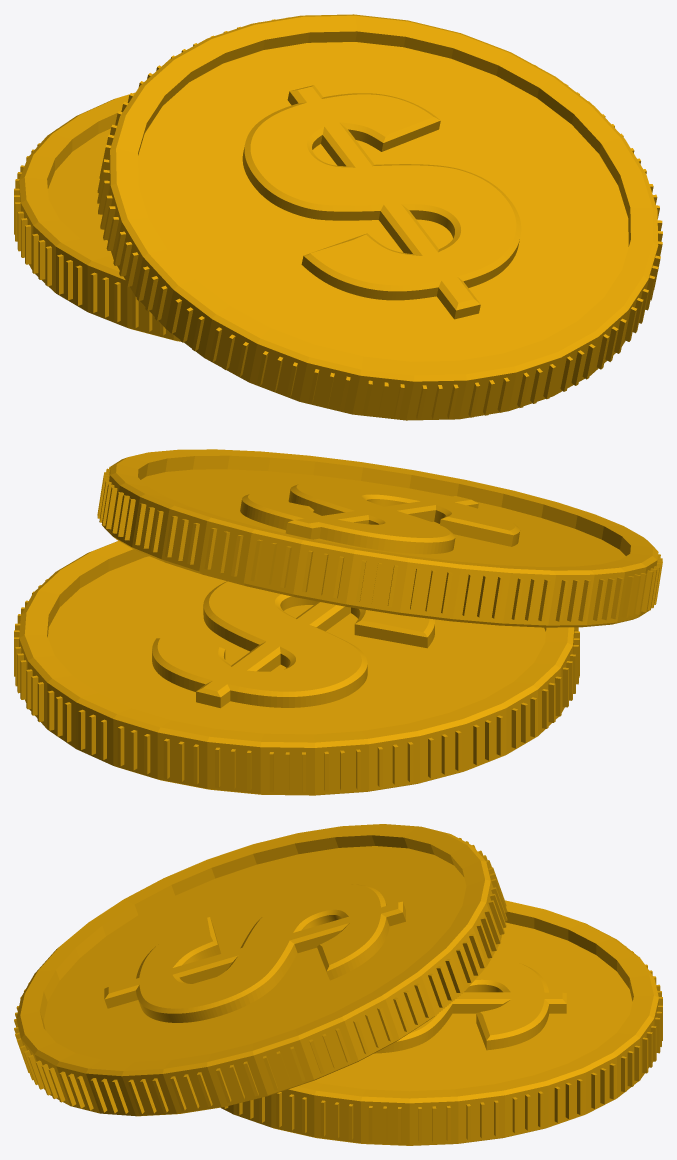
Rendered from 2Coin.fbx.
3 renders of one model, top to bottom at view 1: azimuth 30°, elevation 25°; view 2: azimuth 150°, elevation 25°; view 3: azimuth 270°, elevation 25°, orthographic. The views are drawn at different scales.
Visible parts, largest first — view 1: Coin.001, Coin; view 2: Coin, Coin.001; view 3: Coin.001, Coin.
Part boxes in pixels (x1,y1,x2,y2): Coin.001: (97,14,662,420); Coin: (14,92,181,341); Coin: (14,541,579,795); Coin.001: (97,449,662,627); Coin.001: (14,824,507,1116); Coin: (221,900,662,1145).
Bounding box in the file's own units: 203 × 80.1 × 260.
